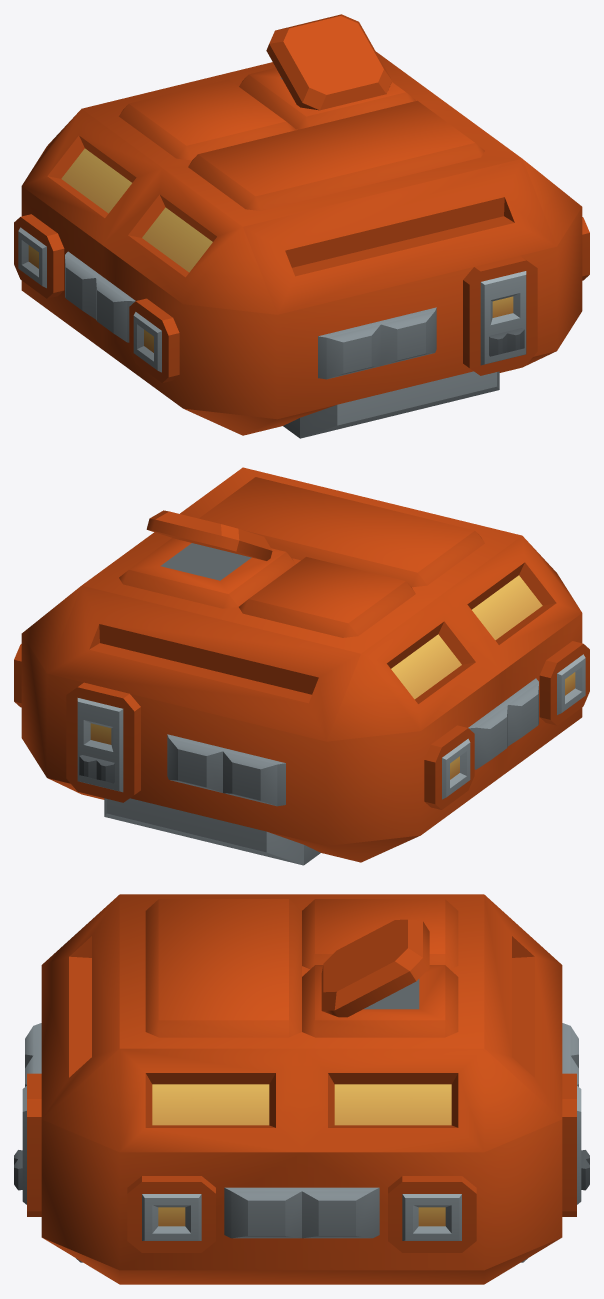
Rendered from mobile_base_carriage.gltf.
The picture shows the model from 3 angles, top to bottom: view 1: azimuth 30°, elevation 25°; view 2: azimuth 150°, elevation 25°; view 3: azimuth 270°, elevation 25°; orthographic projection. The views are drawn at different scales.
Visible parts, largest first — view 1: mobile_base_carriage; view 2: mobile_base_carriage; view 3: mobile_base_carriage.
Boxes of the visible parts, bbox=[...] form: mobile_base_carriage: bbox=[14, 14, 589, 438]; mobile_base_carriage: bbox=[14, 467, 589, 865]; mobile_base_carriage: bbox=[14, 894, 589, 1284].
Bounding box in the file's own units: 2.14 × 1.3 × 2.21.
1 material, 1 textured.
